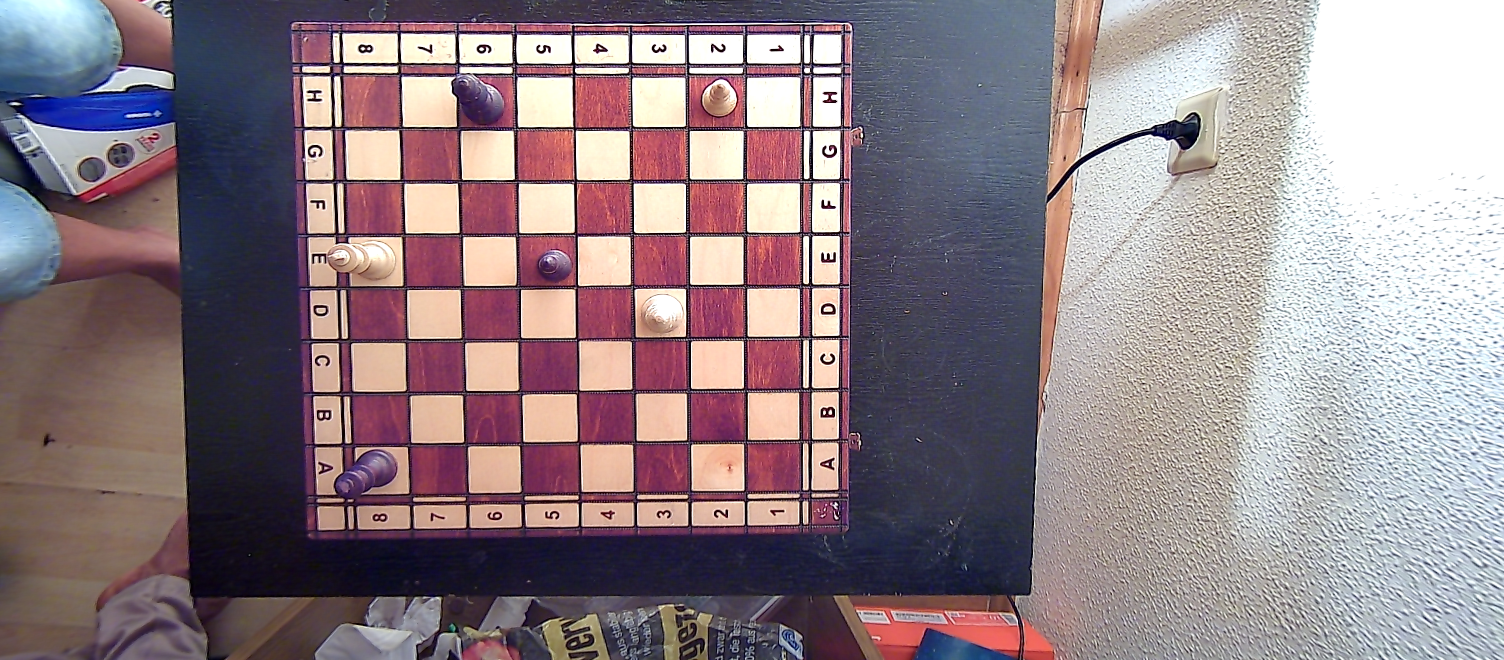black-bishop: (534, 246, 576, 285)
black-king: (334, 449, 396, 496)
black-queen: (448, 70, 508, 126)
white-bishop: (699, 77, 738, 120)
white-king: (326, 239, 399, 284)
white-queen: (639, 292, 685, 334)
